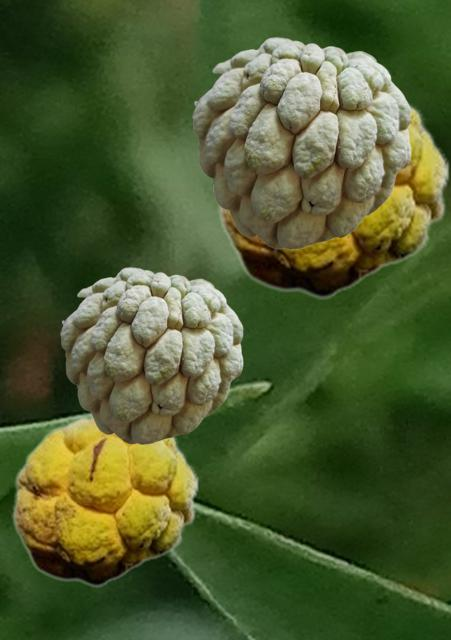atis: (217, 99, 449, 298), (192, 37, 410, 248), (11, 413, 198, 586), (60, 267, 242, 443)
